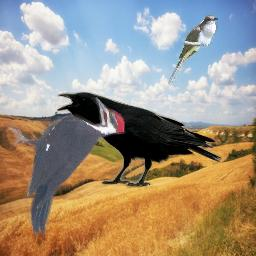Crow: (57, 92, 222, 188)
Cuckoo: (167, 15, 218, 85)
Woodpecker: (7, 97, 128, 237)
